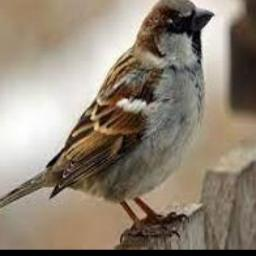Sparrow: (0, 0, 214, 240)
